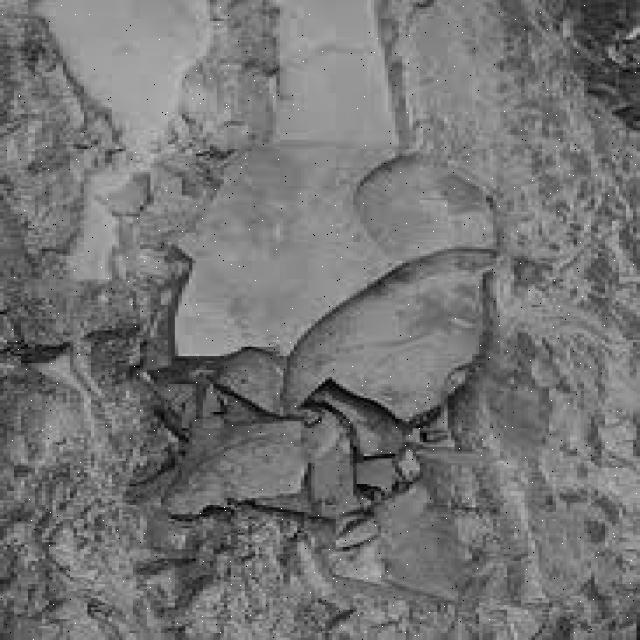Metamorphic: (10, 7, 633, 638)
